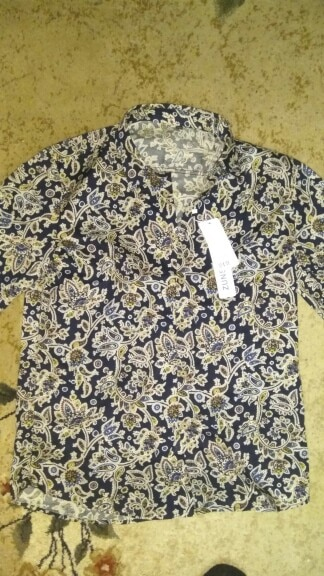shirts: (11, 107, 323, 524)
